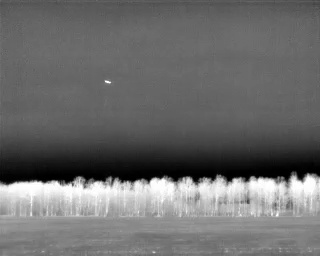DRONE: (101, 76, 114, 88)
